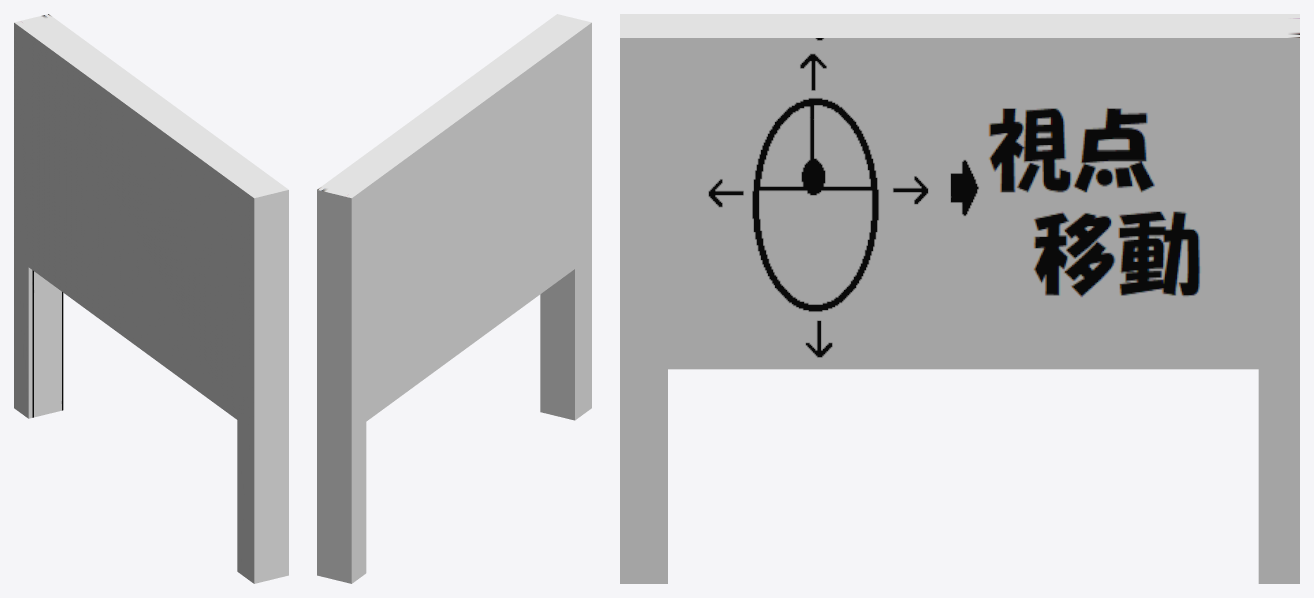
File: Mouse.gltf
3 views of the same model, side by side, from view 1: azimuth 30°, elevation 25°; view 2: azimuth 150°, elevation 25°; view 3: azimuth 270°, elevation 25° (orthographic). The views are drawn at different scales.
Visible parts, largest first — view 1: Cube; view 2: Cube; view 3: Cube.
Boxes of the visible parts, left/top/right/bottom form: Cube: left=14, top=14, right=288, bottom=583; Cube: left=317, top=14, right=591, bottom=583; Cube: left=620, top=14, right=1299, bottom=583.
Size of the model in its own units: 0.3113 by 3.3 by 3.72.
Materials: 1 (1 with a texture image).
